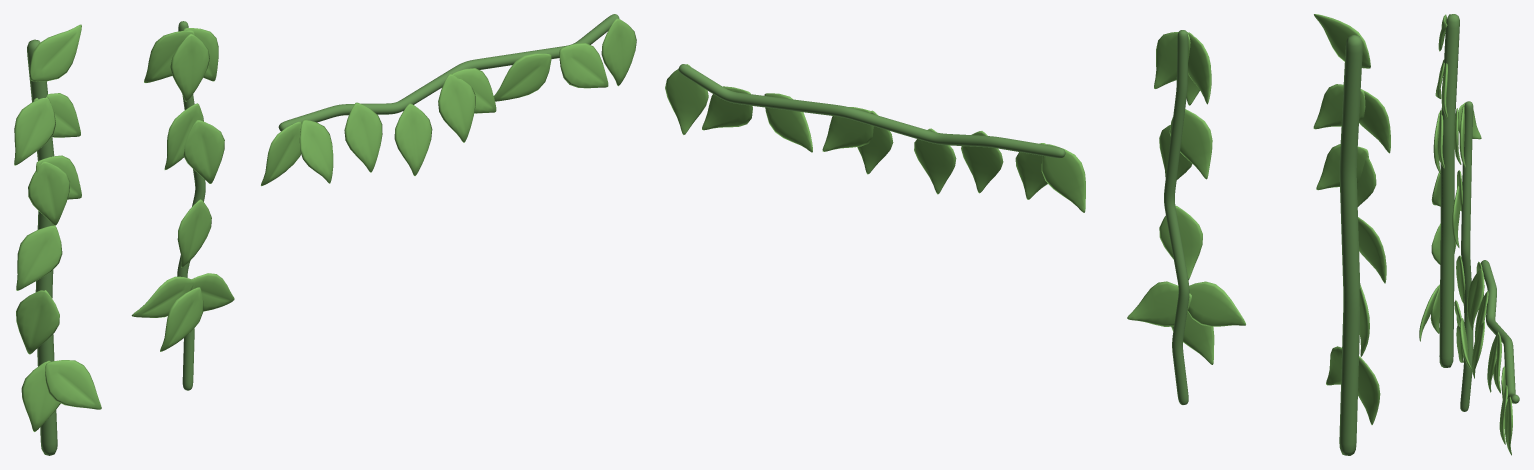
The model's file is Vines.fbx.
The picture shows the model from 3 angles, left to right: view 1: azimuth 30°, elevation 25°; view 2: azimuth 150°, elevation 25°; view 3: azimuth 270°, elevation 25°; orthographic projection. The views are drawn at different scales.
Visible parts, largest first — view 1: Vine2, Vine1, Vine3; view 2: Vine2, Vine1, Vine3; view 3: Vine1, Vine3, Vine2.
Boxes of the visible parts, x1,y1,x2,y2 form: Vine2: (261,14,636,186); Vine1: (14,24,101,455); Vine3: (131,21,234,390); Vine2: (665,64,1085,212); Vine1: (1313,14,1390,455); Vine3: (1127,30,1245,404); Vine1: (1419,14,1459,367); Vine3: (1452,101,1481,411); Vine2: (1467,260,1519,455).
Bounding box in the file's own units: 3065 × 1864 × 477.
